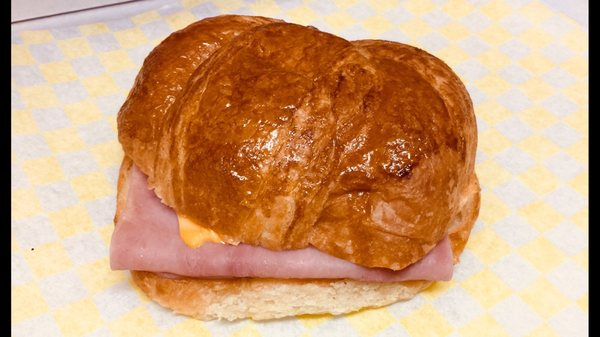soup: (108, 13, 481, 325)
